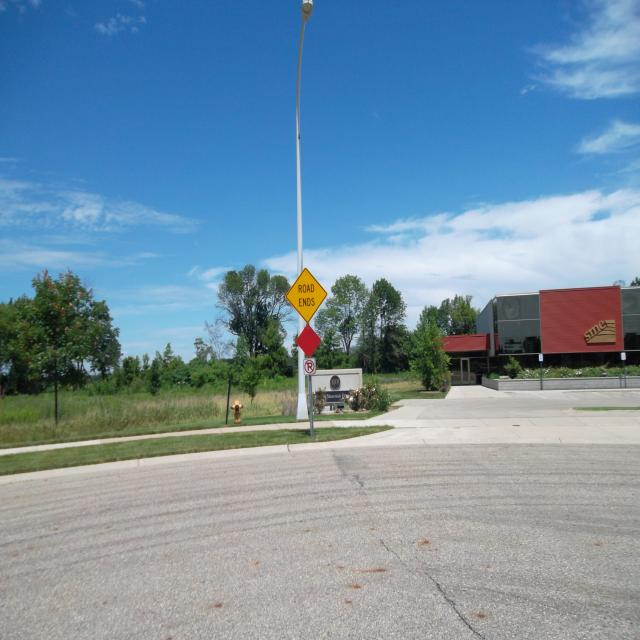regulatory: (303, 356, 316, 376)
warning: (286, 265, 330, 323)
